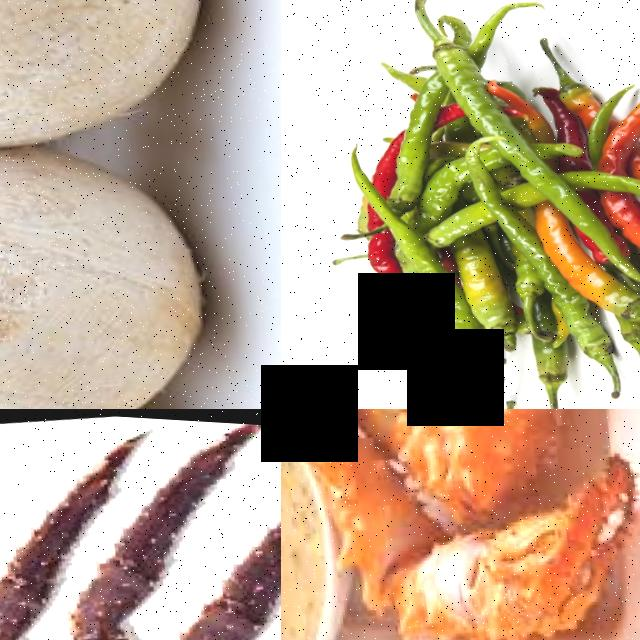chilli: (457, 234, 519, 343), (375, 119, 436, 211), (563, 249, 640, 320), (427, 28, 490, 113), (609, 0, 640, 134)
coconut: (0, 114, 222, 409), (0, 0, 219, 184)
crab: (321, 409, 640, 640), (0, 467, 281, 640)
